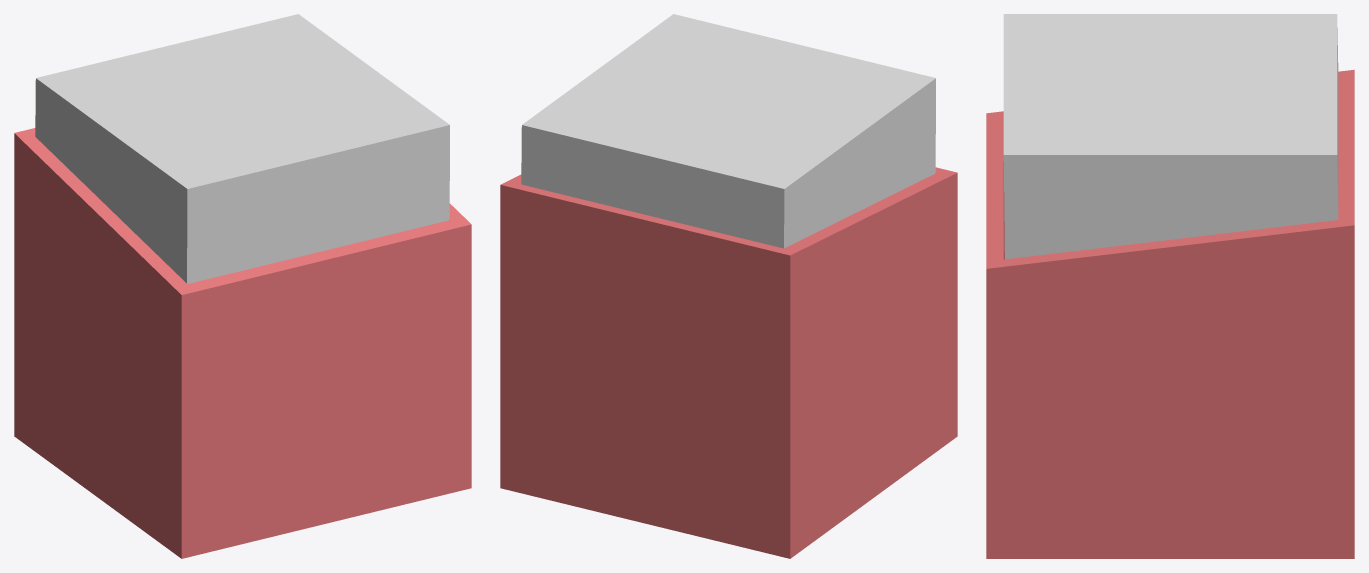
The model's file is display_kaca_miring_pendek.fbx.
The picture shows the model from 3 angles, left to right: view 1: azimuth 30°, elevation 25°; view 2: azimuth 150°, elevation 25°; view 3: azimuth 270°, elevation 25°; orthographic projection. The views are drawn at different scales.
Visible parts, largest first — view 1: display_kaca_miring_pendek; view 2: display_kaca_miring_pendek; view 3: display_kaca_miring_pendek.
Part boxes in pixels (x1,y1,x2,y2): display_kaca_miring_pendek: (14,14,471,558); display_kaca_miring_pendek: (500,14,957,558); display_kaca_miring_pendek: (986,14,1354,558).
Size of the model in its own units: 50 by 59.45 by 50.
2 materials, 1 textured.
